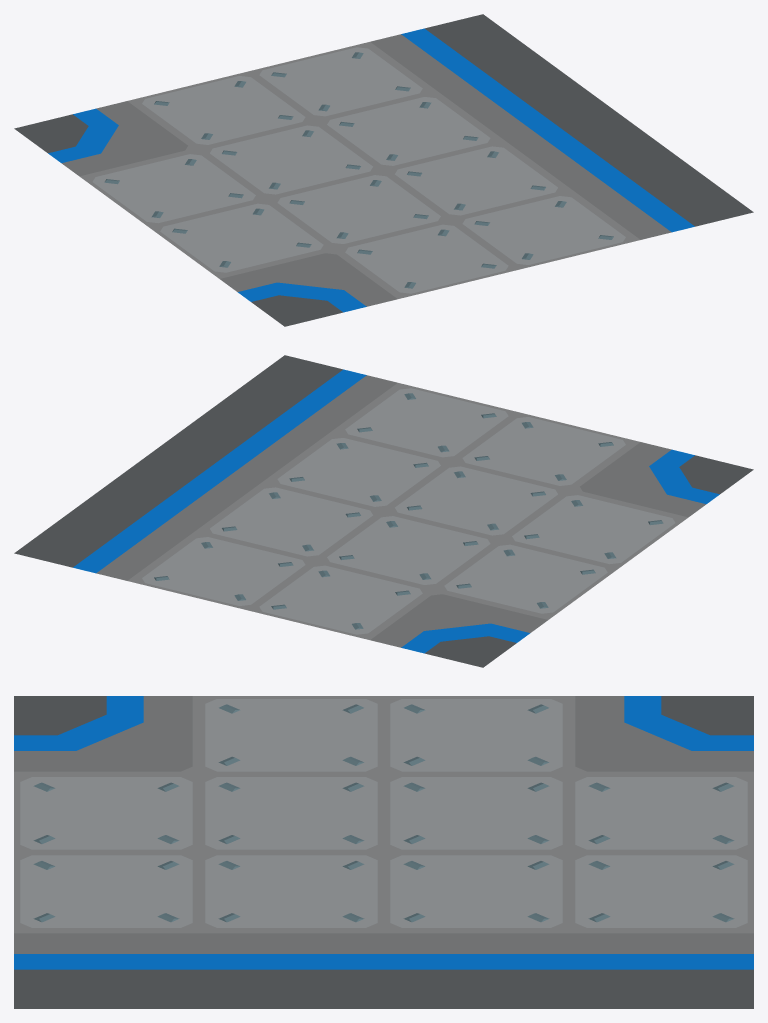
Rendered from Floor_type_B_001.glb.
The picture shows the model from 3 angles, top to bottom: view 1: azimuth 30°, elevation 25°; view 2: azimuth 150°, elevation 25°; view 3: azimuth 270°, elevation 25°; orthographic projection. The views are drawn at different scales.
Parts seen in each view (by area): view 1: Floor_type_B_001; view 2: Floor_type_B_001; view 3: Floor_type_B_001.
Part boxes in pixels (x1,y1,x2,y2): Floor_type_B_001: (14, 14, 753, 326); Floor_type_B_001: (14, 355, 753, 667); Floor_type_B_001: (14, 696, 753, 1008).
Size of the model in its own units: 4 by 0.008 by 4.
Materials: 2 (2 with a texture image).
